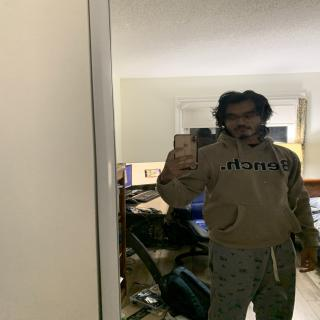Yellow Hoodie: (180, 140, 308, 246)
